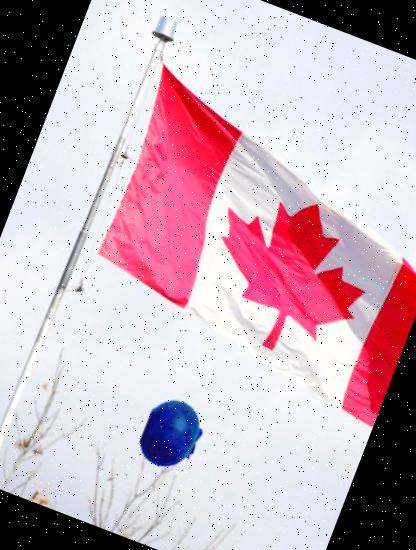Huckleberry: (126, 389, 218, 481)
